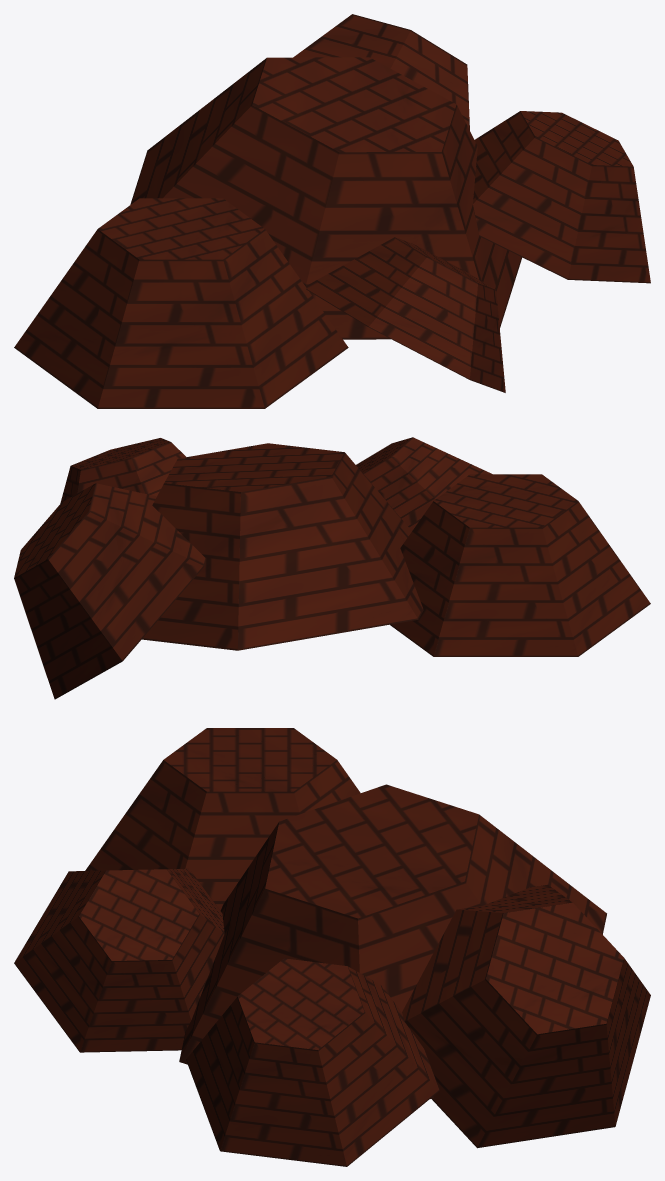
File: SM_FC_RubbleCluster.glb
3 views of the same model, one above another, from view 1: azimuth 30°, elevation 25°; view 2: azimuth 150°, elevation 25°; view 3: azimuth 270°, elevation 25° (orthographic). The views are drawn at different scales.
Visible parts, largest first — view 1: SM_FC_RubbleCluster; view 2: SM_FC_RubbleCluster; view 3: SM_FC_RubbleCluster.
Boxes of the visible parts, x1=… form: SM_FC_RubbleCluster: x1=14, y1=14, x2=650, y2=408; SM_FC_RubbleCluster: x1=14, y1=437, x2=650, y2=699; SM_FC_RubbleCluster: x1=14, y1=728, x2=650, y2=1166.
Size of the model in its own units: 1.94 by 0.6916 by 1.68.
Materials: 1 (1 with a texture image).
